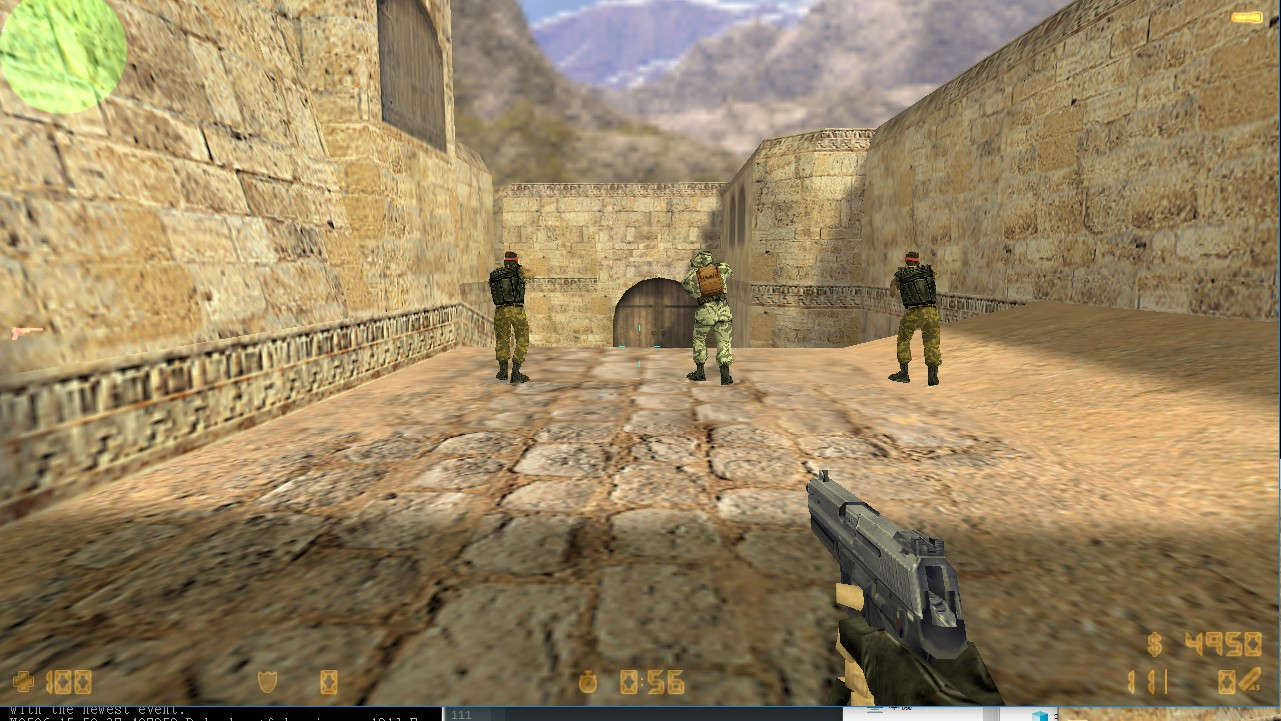person: (676, 241, 741, 393), (476, 244, 538, 389), (890, 243, 942, 385)
